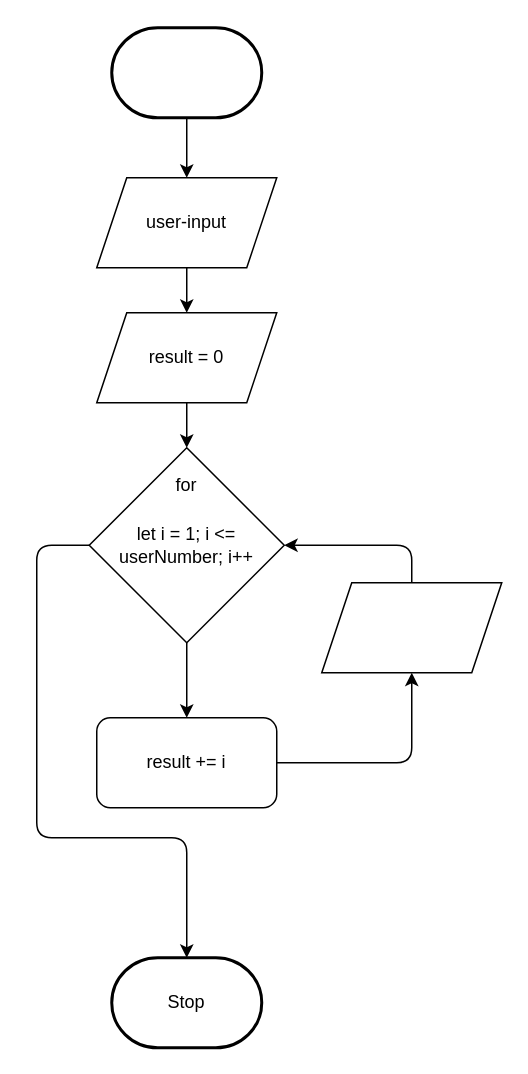
Some shapes in this 528 by 1074 pixel diagram are drawn without their labels. The centre of each missing label's shape, as x and y in pixels:
display the result: the point at 411,627
Start: the point at 186,72
